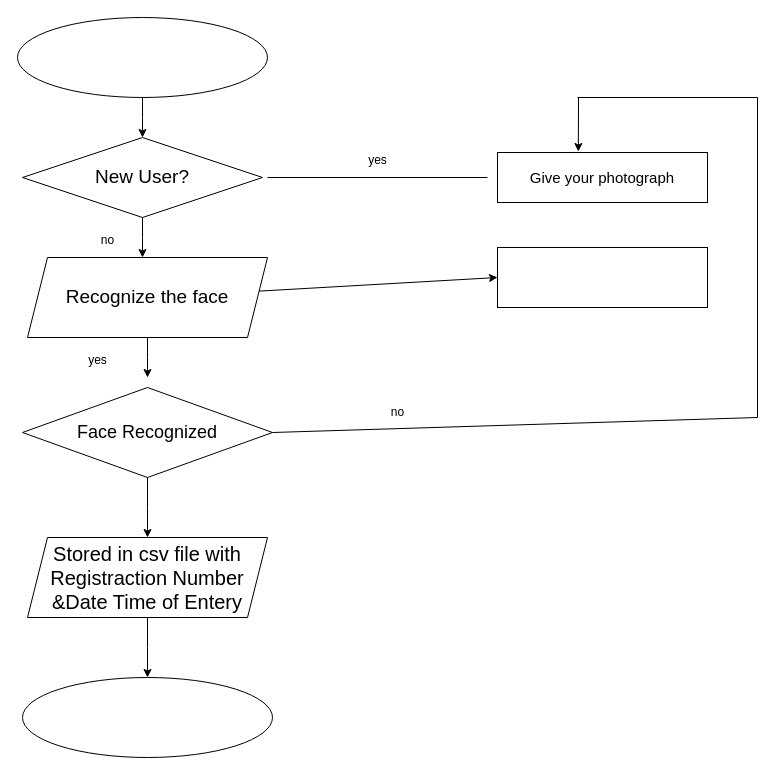
The diagram is 776 pixels wide and 775 high, and some of its shapes have lost their labels. The shapes that lost their labels are listed below. From the top down, each one's box as (x1, y1, x2, y2) in pixels, then its label:
(16, 16, 268, 98): Start
(496, 246, 708, 308): Store the face data in folder on your name
(22, 676, 272, 758): End
